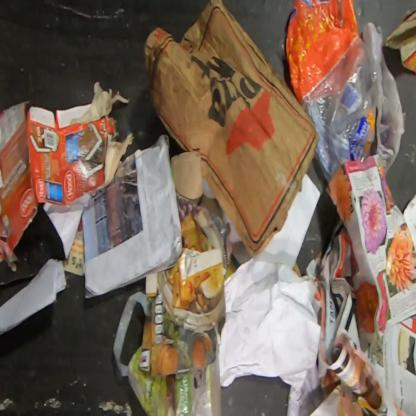cardboard: (0, 82, 135, 272), (138, 192, 241, 376), (170, 148, 203, 206)
soft_plastic: (112, 291, 222, 416), (302, 22, 383, 184), (286, 0, 360, 106), (375, 50, 407, 177)
